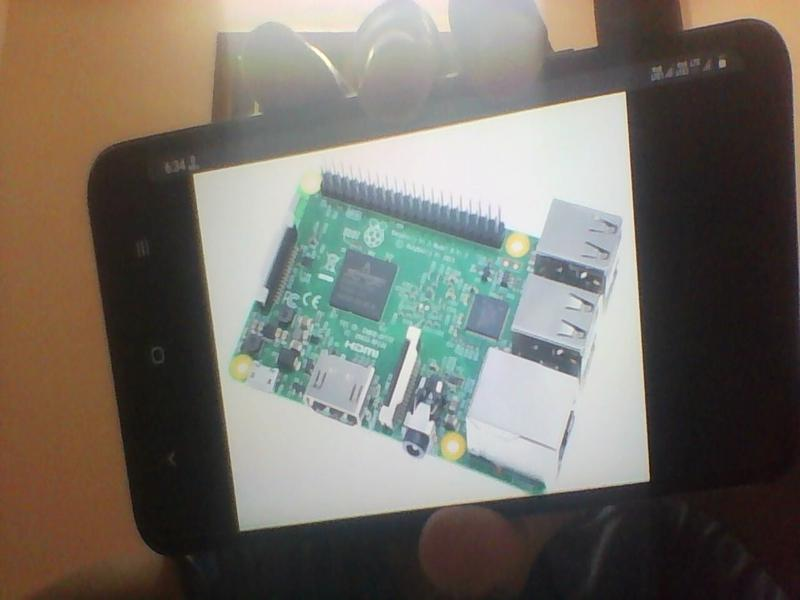aud: (401, 372, 446, 458)
eth: (469, 348, 581, 467)
usb: (512, 275, 606, 354), (539, 194, 625, 280)
